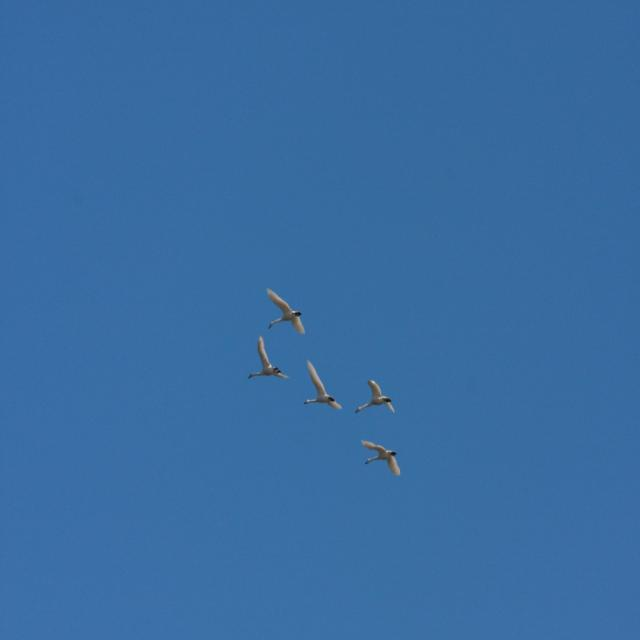bird: (304, 362, 343, 407), (249, 338, 290, 380), (268, 290, 306, 334), (356, 379, 394, 416), (362, 443, 401, 478)
